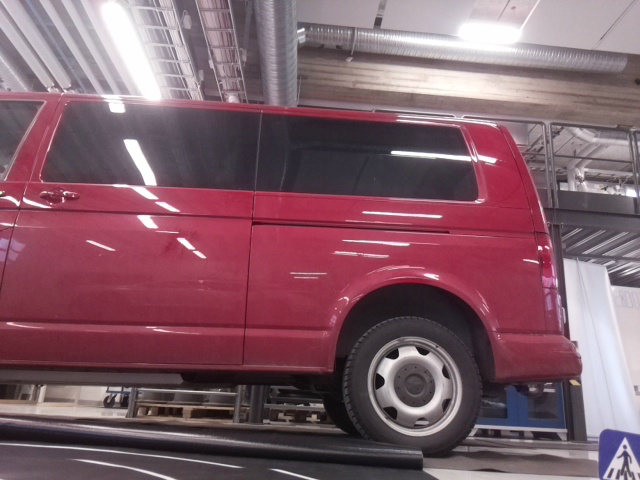Crosswalk: (599, 427, 639, 479)
